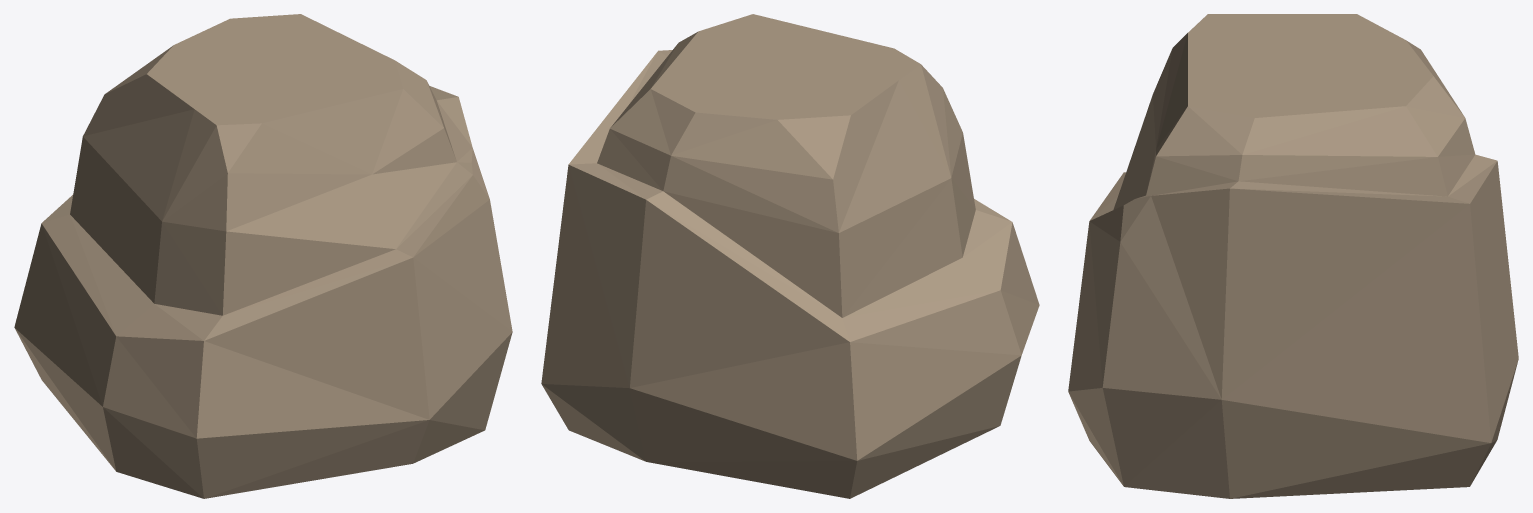
File: SM_Env_Rock_08.fbx
The picture shows the model from 3 angles, left to right: view 1: azimuth 30°, elevation 25°; view 2: azimuth 150°, elevation 25°; view 3: azimuth 270°, elevation 25°; orthographic projection. The views are drawn at different scales.
Parts seen in each view (by area): view 1: SM_Env_Rock_08; view 2: SM_Env_Rock_08; view 3: SM_Env_Rock_08.
Boxes of the visible parts, x1,y1,x2,y2 form: SM_Env_Rock_08: (14,14,512,498); SM_Env_Rock_08: (541,14,1039,498); SM_Env_Rock_08: (1068,14,1518,498).
Bounding box in the file's own units: 0.00641 × 0.0054 × 0.00623.
Materials: 1 (1 with a texture image).
